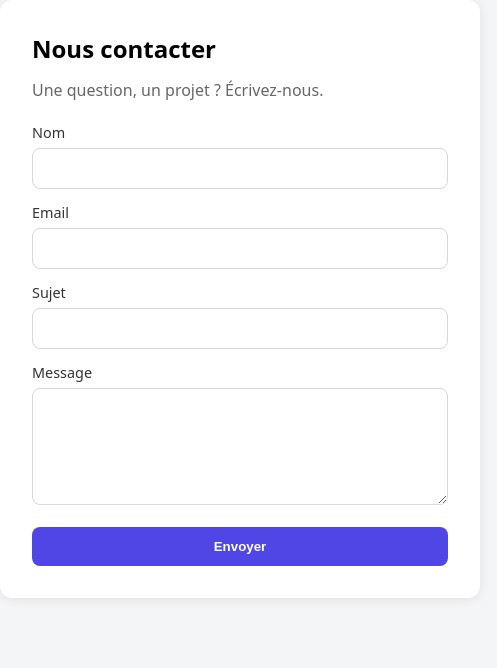
ContactForm › envoie le formulaire et affiche un message de succès
Type "Alice Dupont" into the field labelled "Nom" at (240, 168), box top-left (32, 148), bottom-right (448, 189)
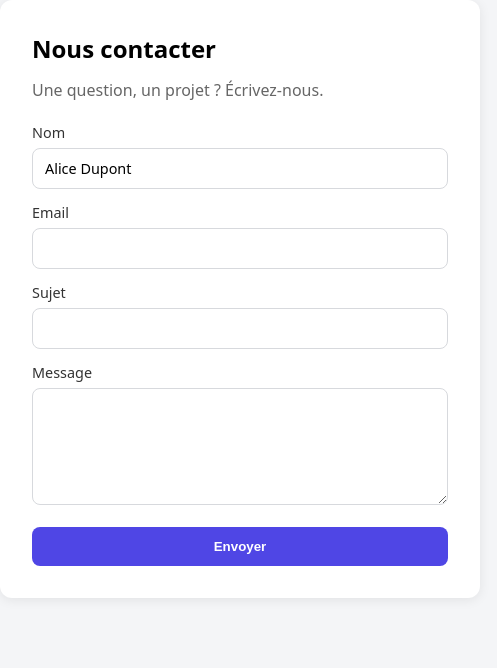
Type "alice@example.com" into the field labelled "Email" at (240, 248), box top-left (32, 228), bottom-right (448, 269)
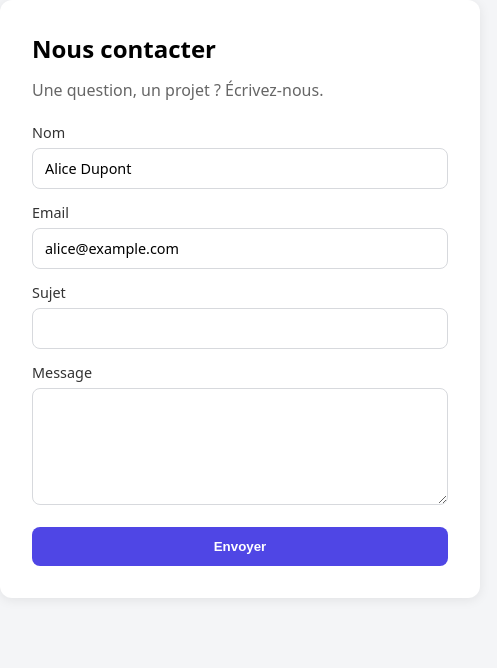
Type "Une question" into the field labelled "Sujet" at (240, 328), box top-left (32, 308), bottom-right (448, 349)
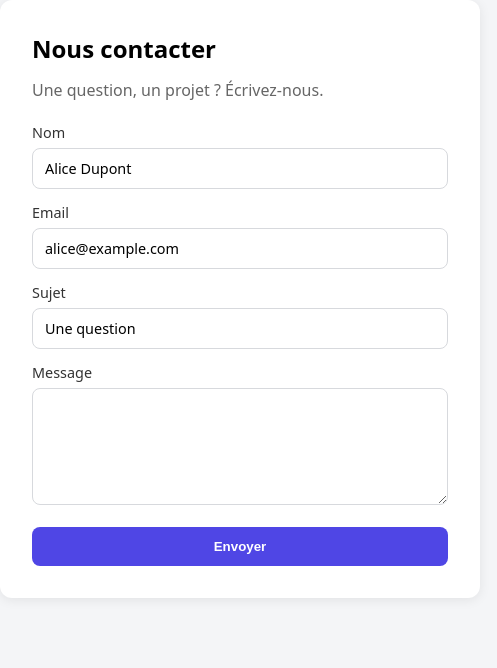
Type "Bonjour, ceci est un message de test." into the text box labelled "Message" at (240, 446), box top-left (32, 388), bottom-right (448, 505)
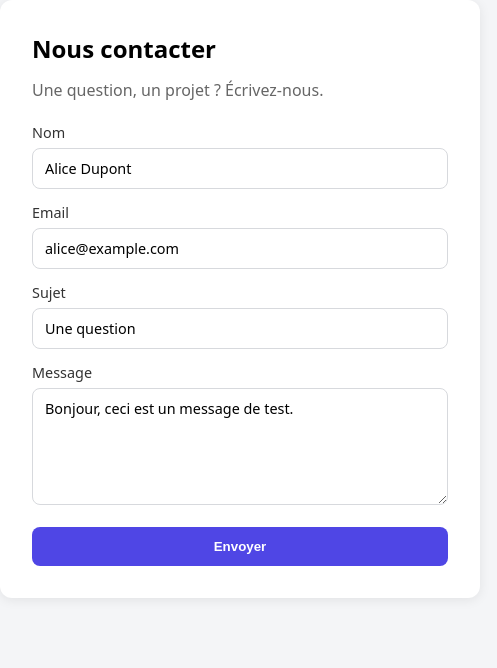
Submit the form
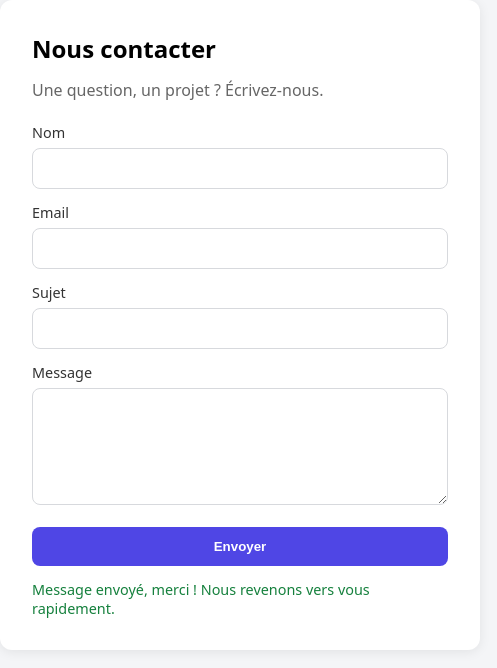
Check: the text "Message envoyé, merci ! Nous revenons vers vous rapidement." is shown, box top-left (32, 580), bottom-right (370, 618)
Check: the field labelled "Email" is empty, box top-left (32, 228), bottom-right (448, 269)
